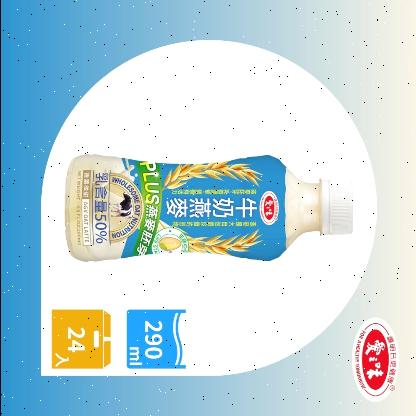Plastic Bottle: (65, 155, 352, 262)
